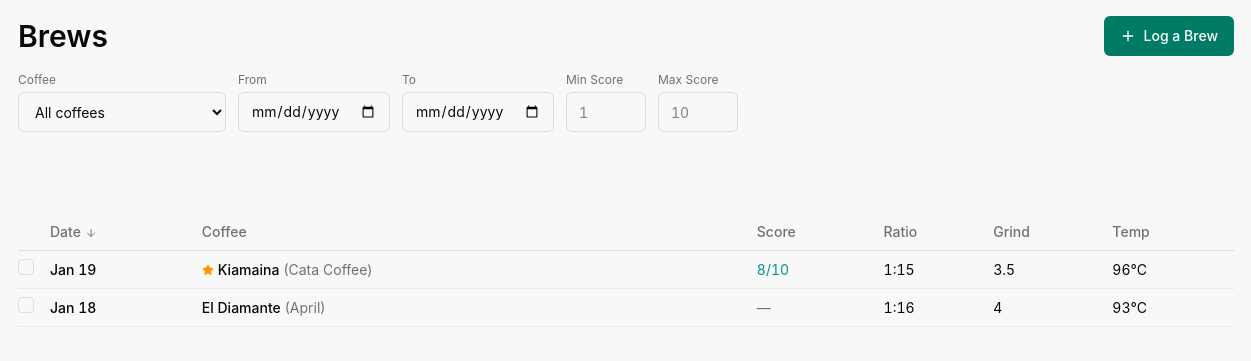
it: BrewsPage › shows empty state with filter message when filters yield no results
Select "Kiamaina — Cata Coffee" in the dropdown labelled "Coffee" at (122, 112), box [18, 92, 226, 132]
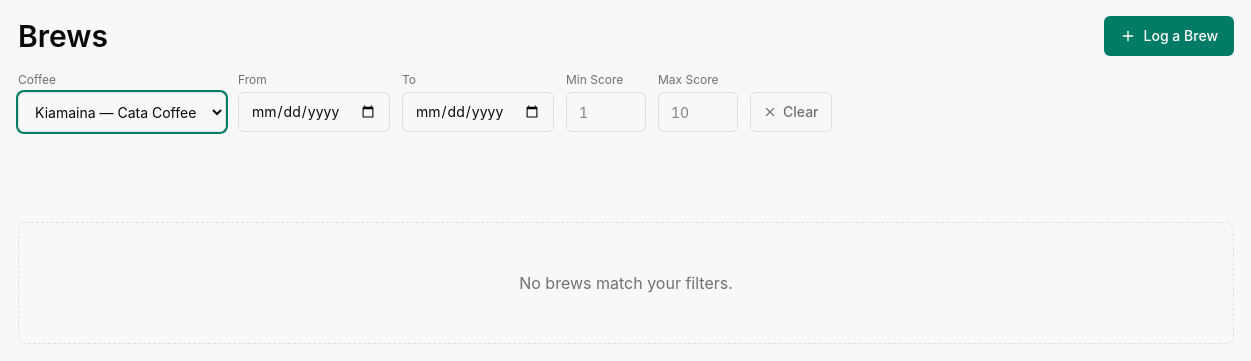
Expected: the text "No brews match your filters." is shown, [519, 273, 733, 293]
